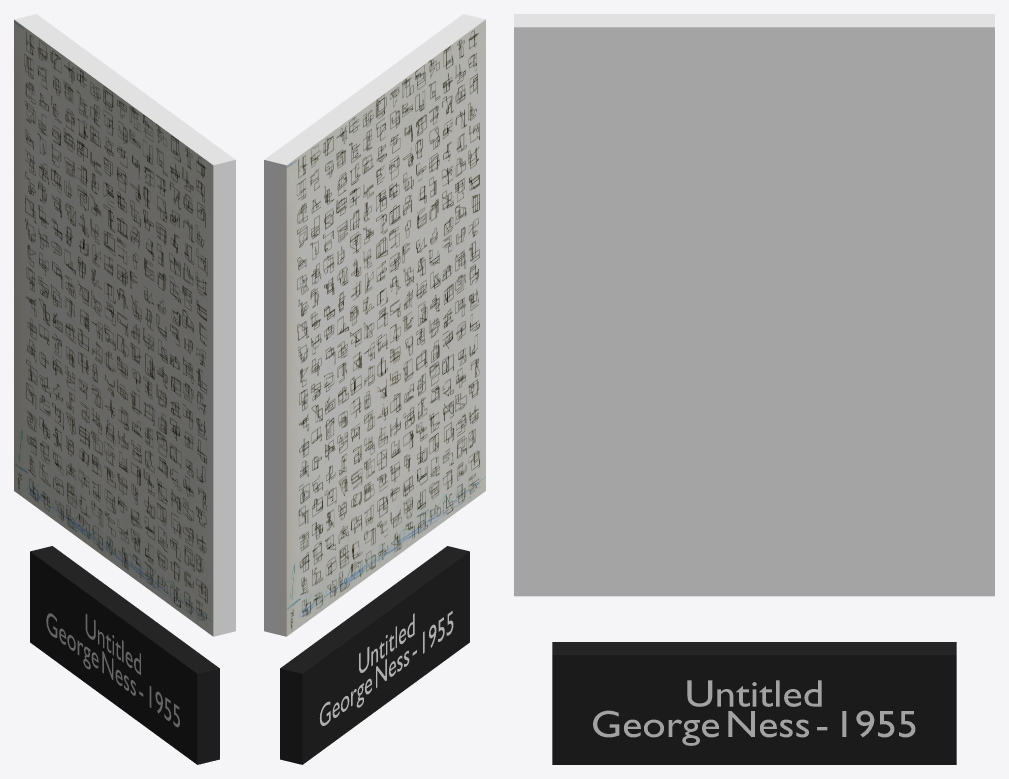
File: GeorgesNess 1.fbx
3 renders of one model, left to right at view 1: azimuth 30°, elevation 25°; view 2: azimuth 150°, elevation 25°; view 3: azimuth 270°, elevation 25°, orthographic. The views are drawn at different scales.
Visible parts, largest first — view 1: Georges Ness - 1955(1), Pancarte, Text; view 2: Georges Ness - 1955(1), Pancarte, Text; view 3: Georges Ness - 1955(1), Pancarte, Text.001.
Boxes of the visible parts, x1,y1,x2,y2 form: Georges Ness - 1955(1): (14, 14, 235, 636); Pancarte: (30, 546, 219, 764); Text: (46, 613, 179, 727); Georges Ness - 1955(1): (264, 14, 485, 636); Pancarte: (280, 546, 469, 764); Text: (319, 611, 453, 725); Georges Ness - 1955(1): (514, 14, 994, 596); Pancarte: (552, 642, 956, 764); Text.001: (593, 680, 915, 745).
Size of the model in its own units: 5.2 by 130 by 76.59.
Materials: 4 (1 with a texture image).
